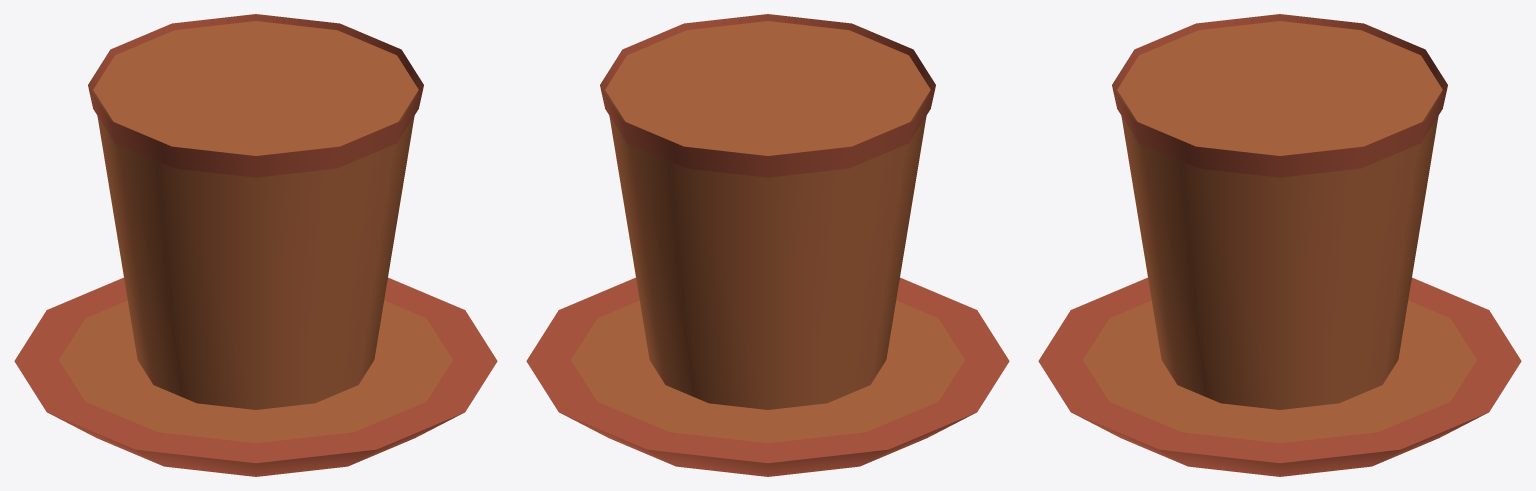
The model's file is pass_kesar_doodh.glb.
3 views of the same model, side by side, from view 1: azimuth 30°, elevation 25°; view 2: azimuth 150°, elevation 25°; view 3: azimuth 270°, elevation 25° (orthographic).
Visible parts, largest first — view 1: pass_kesar_doodh; view 2: pass_kesar_doodh; view 3: pass_kesar_doodh.
Part boxes in pixels (left/top/right/bottom): pass_kesar_doodh: left=14, top=14, right=497, bottom=476; pass_kesar_doodh: left=526, top=14, right=1009, bottom=476; pass_kesar_doodh: left=1038, top=14, right=1521, bottom=476.
Bounding box in the file's own units: 0.184 × 0.132 × 0.184.
Materials: 1 (1 with a texture image).
